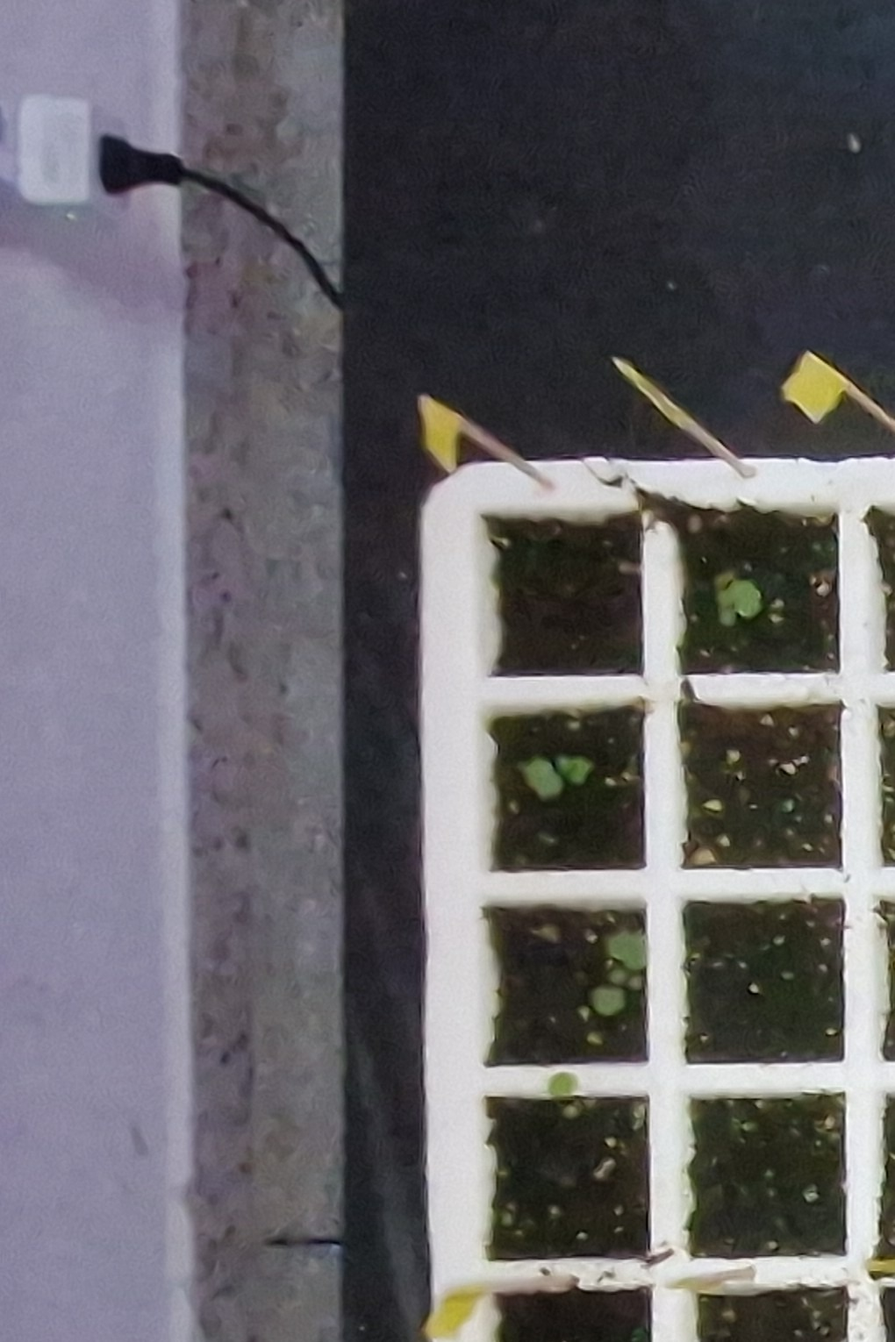Folha: (524, 757, 561, 797), (728, 581, 760, 617), (558, 757, 591, 784), (719, 609, 735, 625), (718, 590, 733, 607)
Germinacao: (525, 757, 591, 799), (716, 581, 760, 626)
